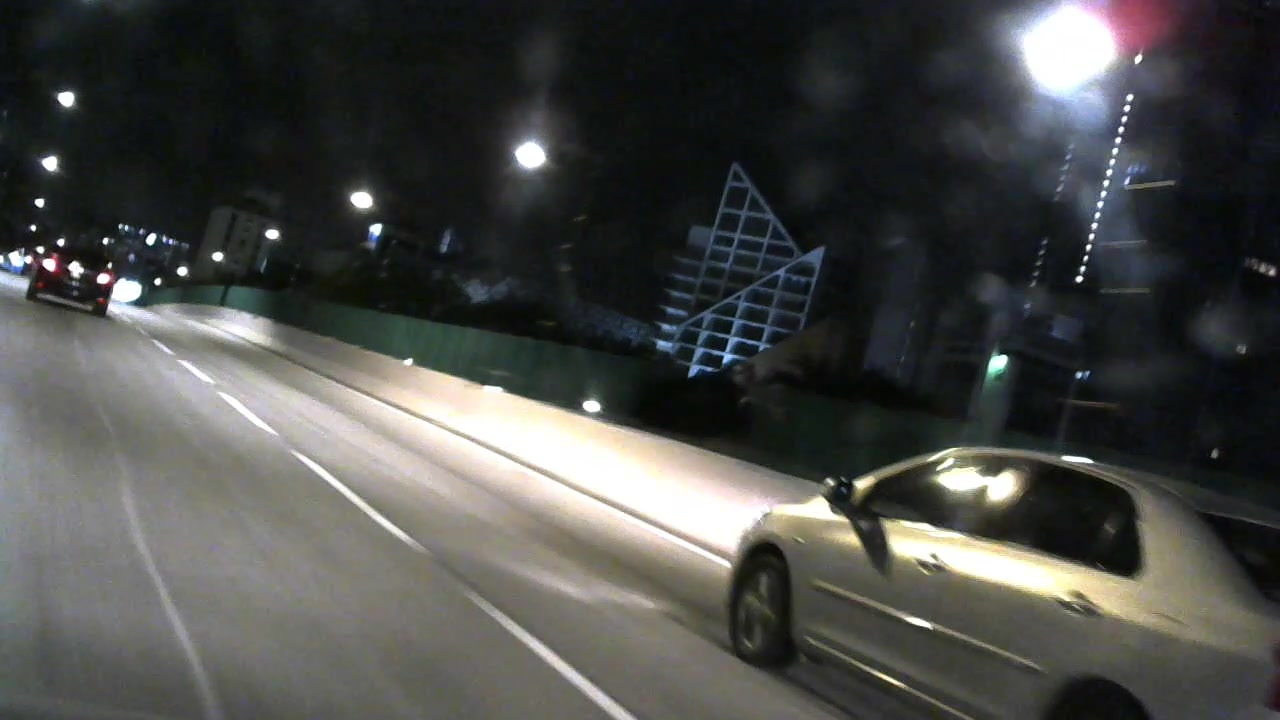Car: (680, 446, 1275, 715), (29, 240, 123, 318)
